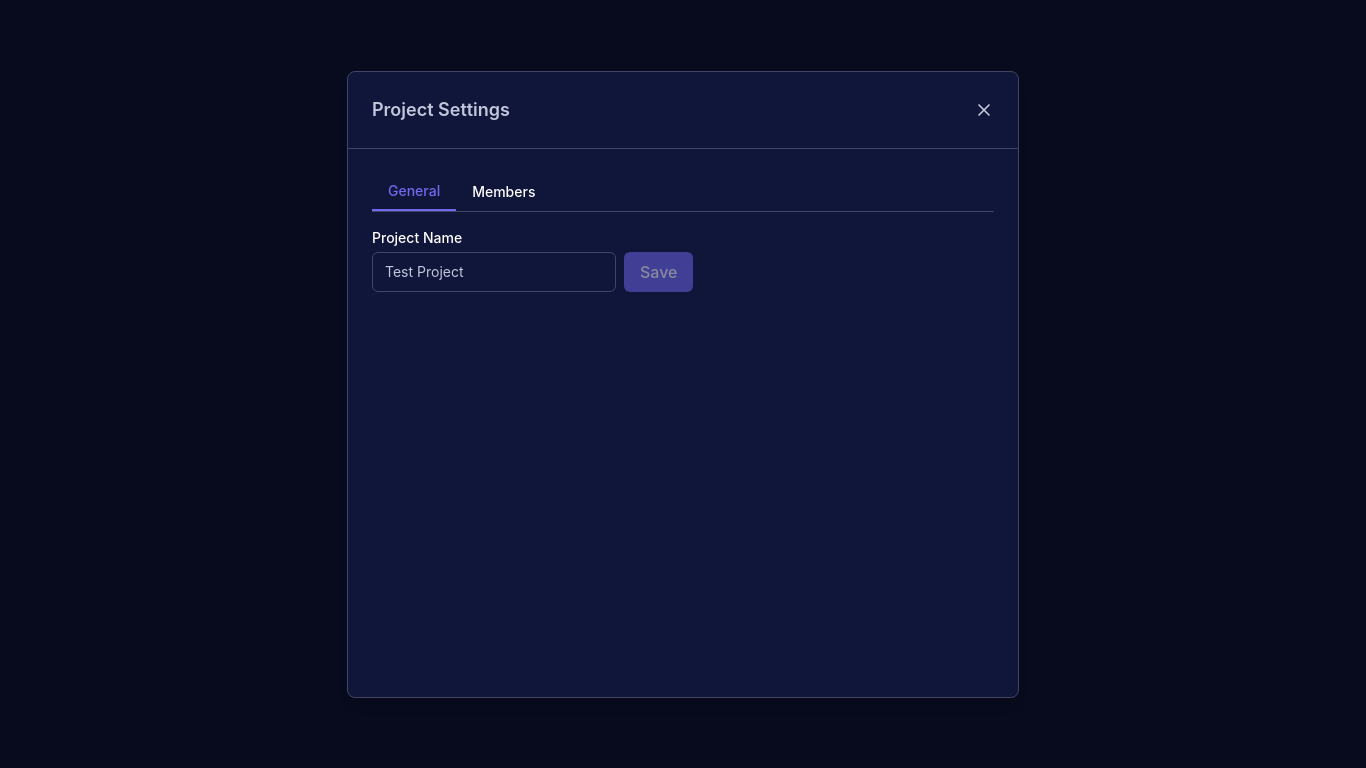
ProjectSettingsModal › switches to members tab
What coordinates should you click on to do the following:
click the button "Members"
I would click on:
 (504, 192)
Its box is x1=456 y1=172 x2=552 y2=210.
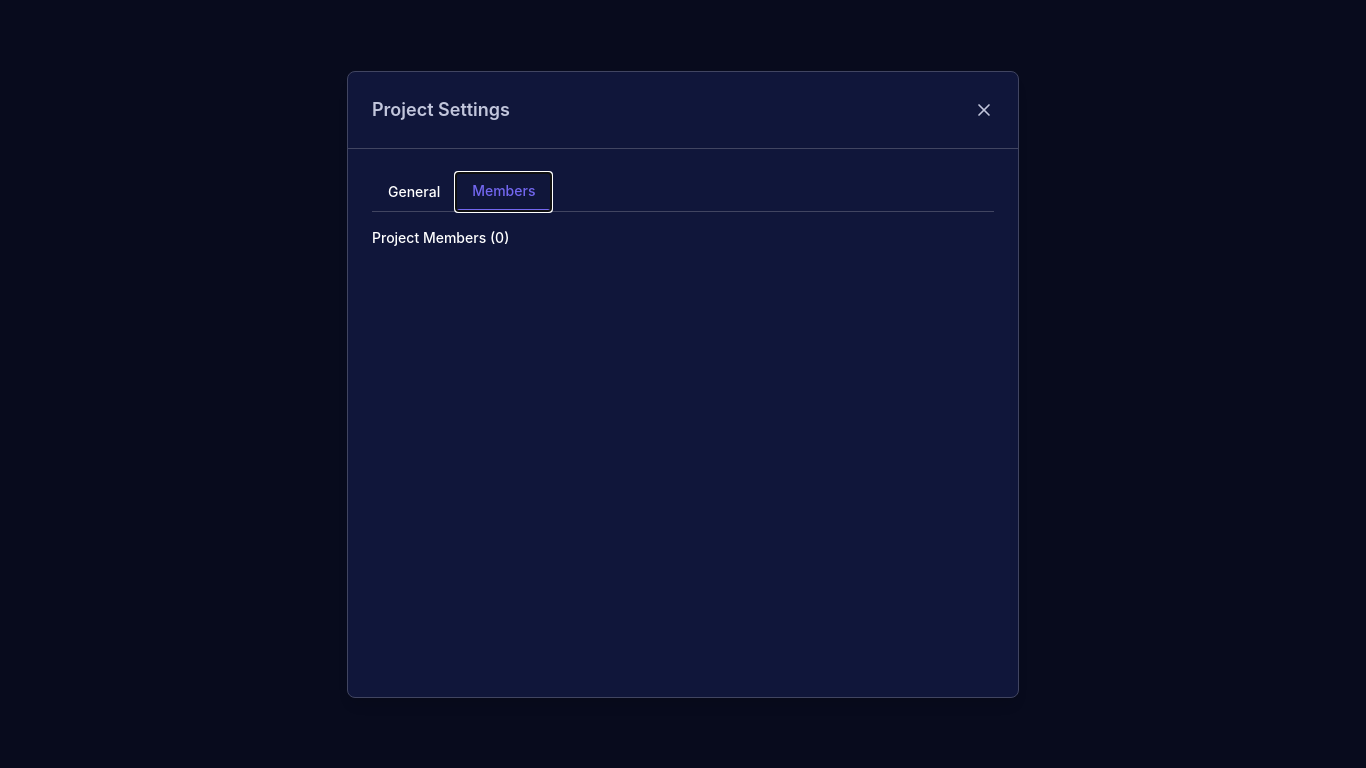
expect the heading "Project Members (0)" is shown: met, box x1=372 y1=228 x2=509 y2=246
